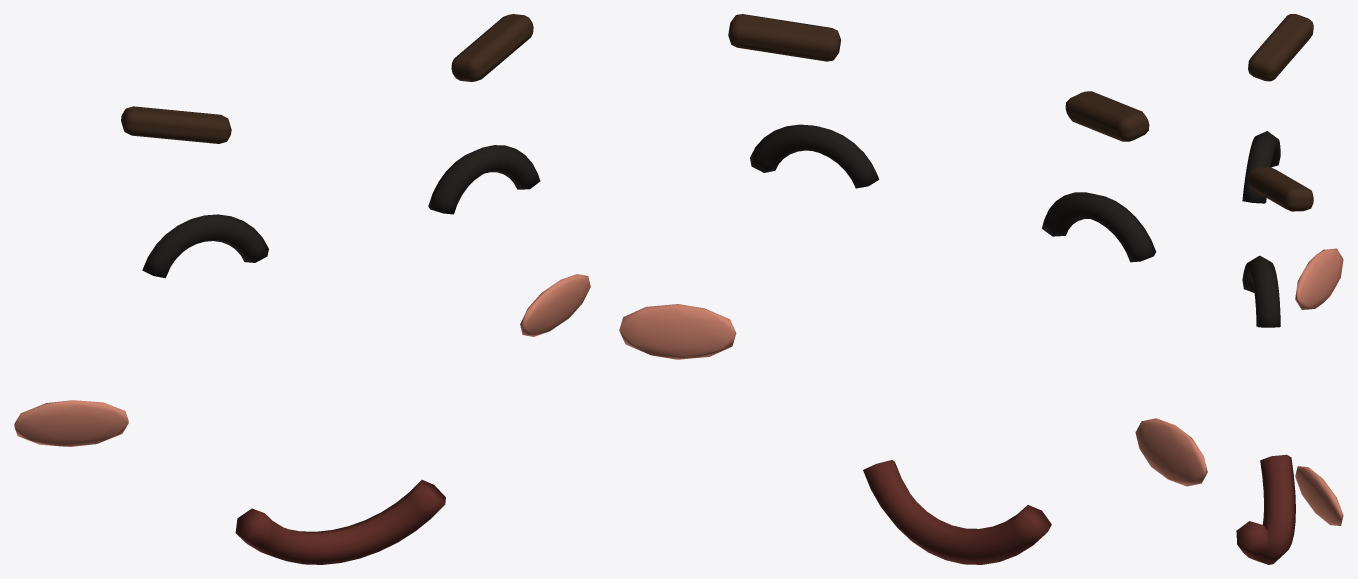
File: 18-rosy.glb
The picture shows the model from 3 angles, left to right: view 1: azimuth 30°, elevation 25°; view 2: azimuth 150°, elevation 25°; view 3: azimuth 270°, elevation 25°; orthographic projection. The views are drawn at different scales.
Parts seen in each view (by area): view 1: Face18_Mouth, Face18_Cheek-1, Face18_EyeClosed-1, Face18_EyeClosed1, Face18_Brow-1, Face18_Brow1, Face18_Cheek1; view 2: Face18_Mouth, Face18_Cheek1, Face18_EyeClosed1, Face18_Brow1, Face18_EyeClosed-1, Face18_Cheek-1, Face18_Brow-1; view 3: Face18_Mouth, Face18_Brow-1, Face18_Cheek-1, Face18_EyeClosed1, Face18_Brow1, Face18_Cheek1, Face18_EyeClosed-1.
Part boxes in pixels (x1,y1,x2,y2): Face18_Mouth: (235, 479, 445, 564); Face18_Cheek-1: (14, 400, 128, 446); Face18_EyeClosed-1: (142, 214, 268, 278); Face18_EyeClosed1: (428, 145, 540, 214); Face18_Brow-1: (121, 106, 231, 143); Face18_Brow1: (451, 14, 533, 81); Face18_Cheek1: (520, 274, 590, 336); Face18_Mouth: (863, 460, 1051, 564); Face18_Cheek1: (619, 304, 736, 359); Face18_EyeClosed1: (750, 124, 879, 188); Face18_Brow1: (728, 14, 840, 61); Face18_EyeClosed-1: (1042, 192, 1155, 262); Face18_Cheek-1: (1135, 418, 1207, 486); Face18_Brow-1: (1065, 91, 1149, 141); Face18_Mouth: (1236, 454, 1295, 564); Face18_Brow-1: (1248, 14, 1313, 81); Face18_Cheek-1: (1295, 248, 1343, 309); Face18_EyeClosed1: (1242, 255, 1280, 327); Face18_Brow1: (1248, 167, 1313, 211); Face18_Cheek1: (1295, 466, 1343, 525); Face18_EyeClosed-1: (1242, 131, 1280, 203).
Size of the model in its own units: 0.3749 by 0.3057 by 0.0658.
